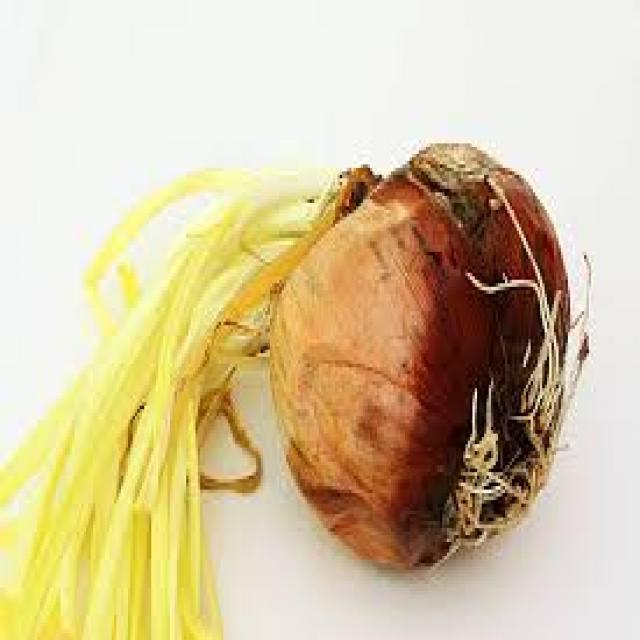Onion: (0, 162, 347, 640), (270, 139, 596, 573)
